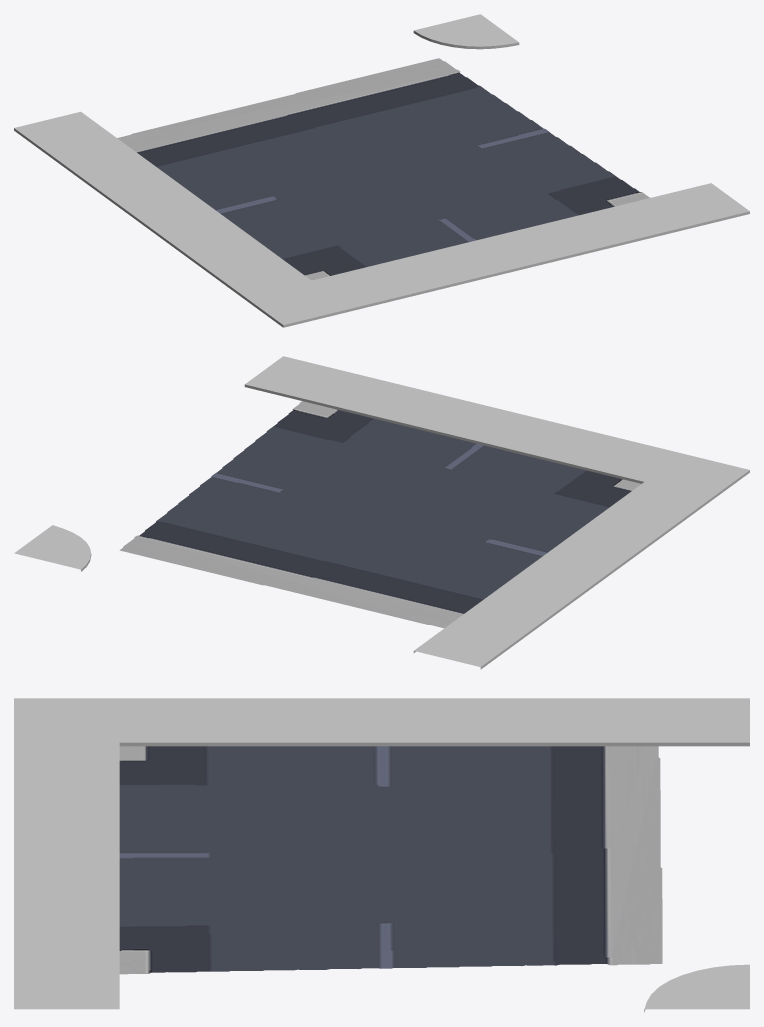
Rendered from Road_L.fbx.
The picture shows the model from 3 angles, top to bottom: view 1: azimuth 30°, elevation 25°; view 2: azimuth 150°, elevation 25°; view 3: azimuth 270°, elevation 25°; orthographic projection. The views are drawn at different scales.
Parts seen in each view (by area): view 1: Road_L_Intersection; view 2: Road_L_Intersection; view 3: Road_L_Intersection.
Boxes of the visible parts, left/top/right/bottom form: Road_L_Intersection: left=14, top=14, right=749, bottom=327; Road_L_Intersection: left=14, top=356, right=749, bottom=669; Road_L_Intersection: left=14, top=698, right=749, bottom=1012.
Bounding box in the file's own units: 379 × 2.04 × 379.
